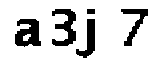3: (47, 5, 79, 49)
7: (119, 6, 151, 47)
a: (12, 17, 43, 47)
j: (78, 5, 103, 59)
